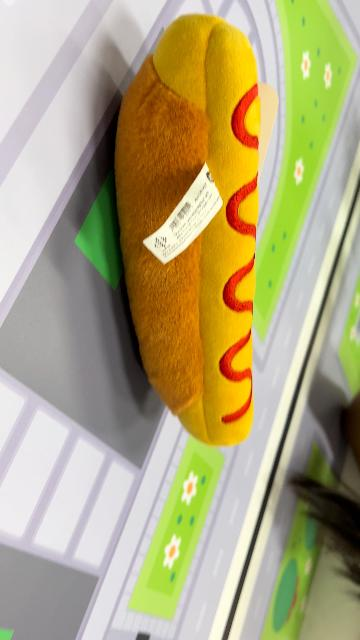hotdog: (113, 12, 263, 448)
